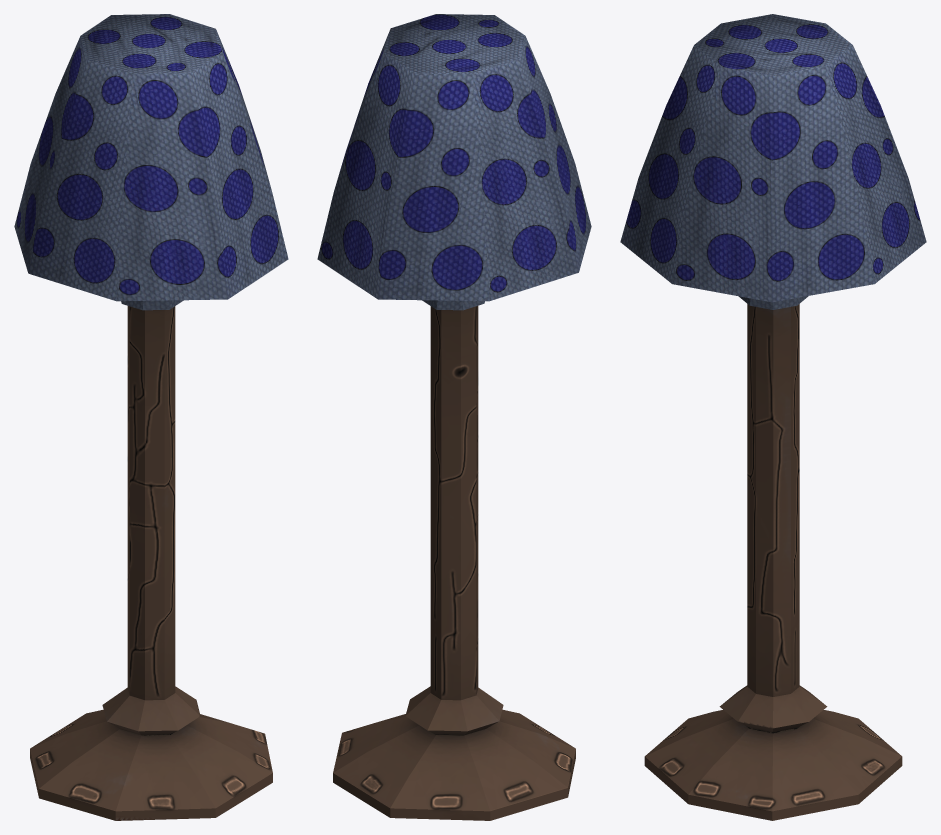
The model's file is lamp_1.fbx.
3 views of the same model, side by side, from view 1: azimuth 30°, elevation 25°; view 2: azimuth 150°, elevation 25°; view 3: azimuth 270°, elevation 25° (orthographic).
Visible parts, largest first — view 1: lamp_mesh; view 2: lamp_mesh; view 3: lamp_mesh.
Boxes of the visible parts, x1,y1,x2,y2 form: lamp_mesh: [14, 14, 288, 820]; lamp_mesh: [317, 14, 591, 820]; lamp_mesh: [620, 14, 926, 820].
Size of the model in its own units: 55.01 by 154 by 59.33.
